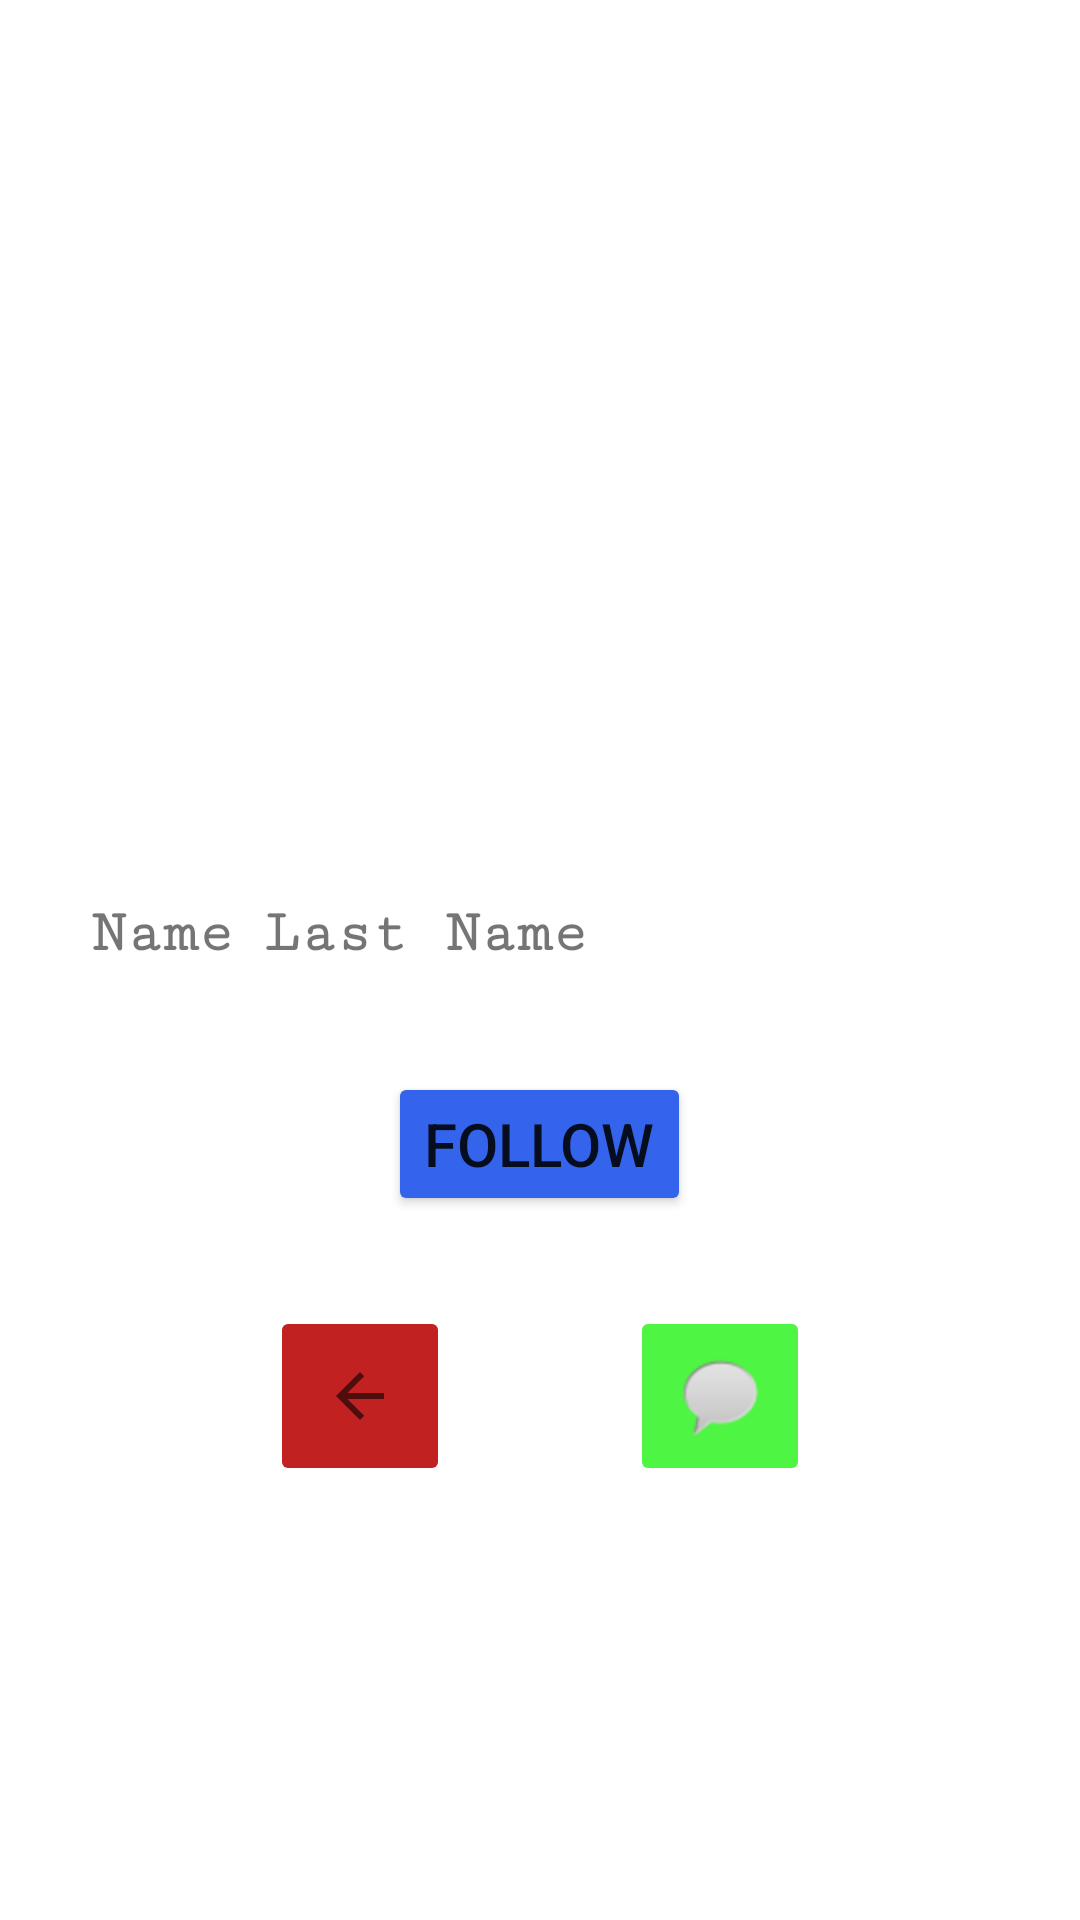

Icons on this 1080px x 1920px Android screen, each with the point to tap as point (x, y):
sym action chat: point (720, 1396)
